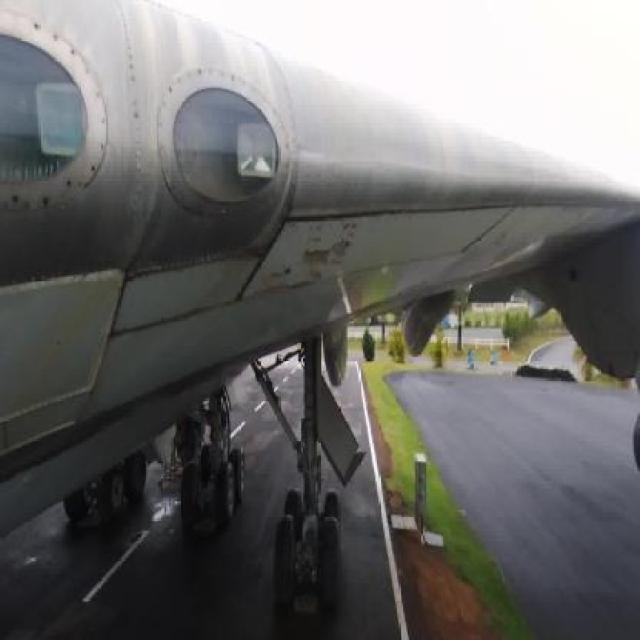Scartch: (244, 200, 371, 311)
